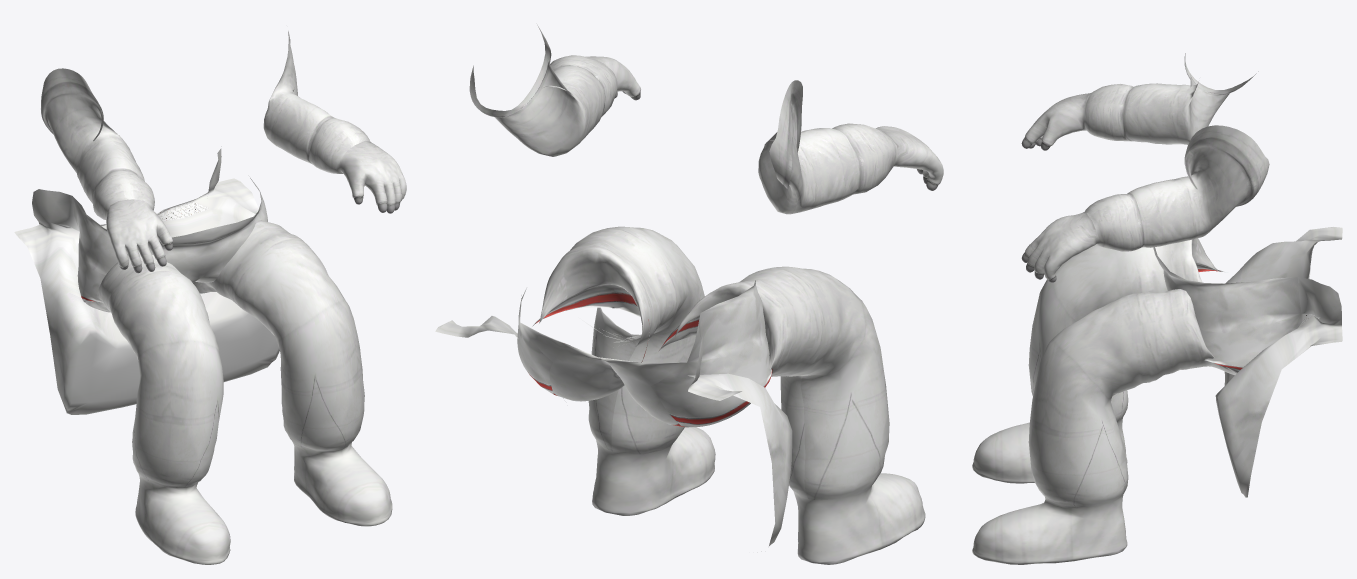
The model's file is astronaut-seated.glb.
3 renders of one model, left to right at view 1: azimuth 30°, elevation 25°; view 2: azimuth 150°, elevation 25°; view 3: azimuth 270°, elevation 25°, orthographic. The views are drawn at different scales.
Visible parts, largest first — view 1: NASA_suited_seated; view 2: NASA_suited_seated; view 3: NASA_suited_seated.
Boxes of the visible parts, x1=… form: NASA_suited_seated: x1=14, y1=31, x2=406, y2=564; NASA_suited_seated: x1=435, y1=23, x2=943, y2=564; NASA_suited_seated: x1=972, y1=53, x2=1342, y2=564.
Bounding box in the file's own units: 0.8021 × 1.1 × 0.8363.
1 material, 1 textured.
